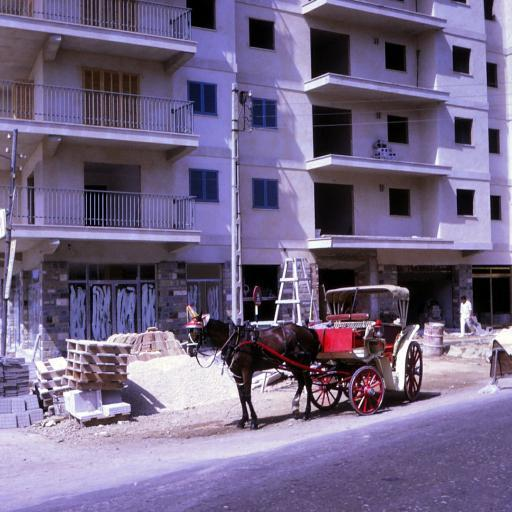horse: (182, 302, 320, 432)
